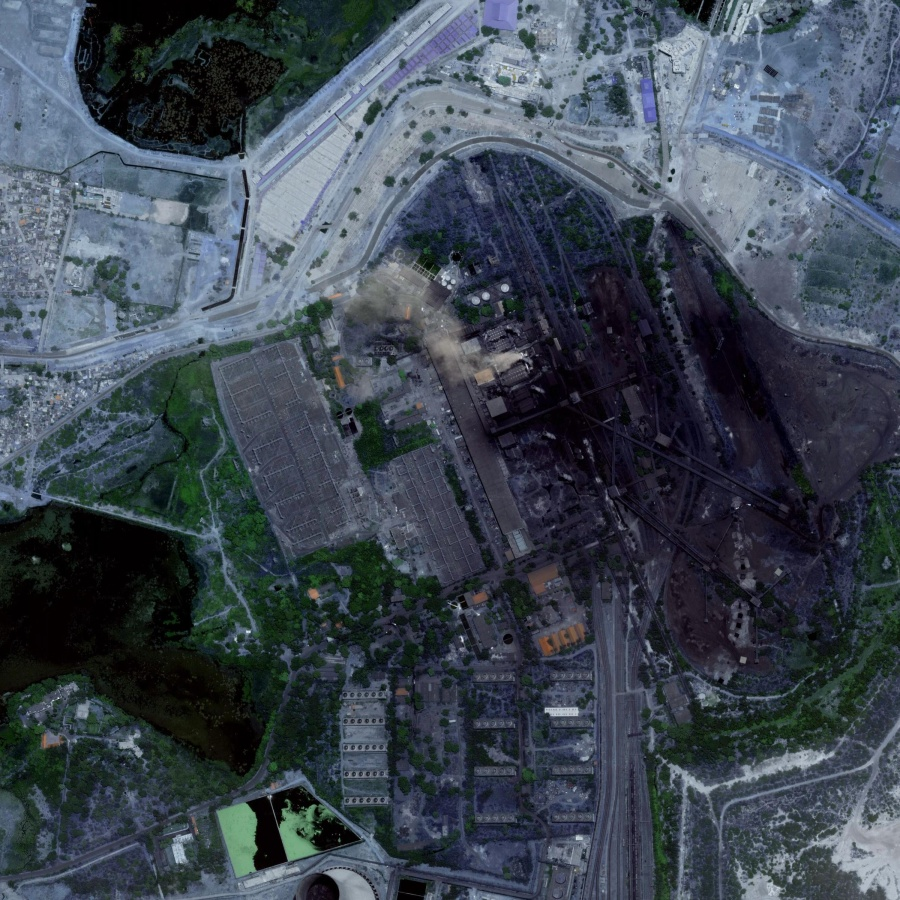PowerPlant: (364, 136, 855, 675)
